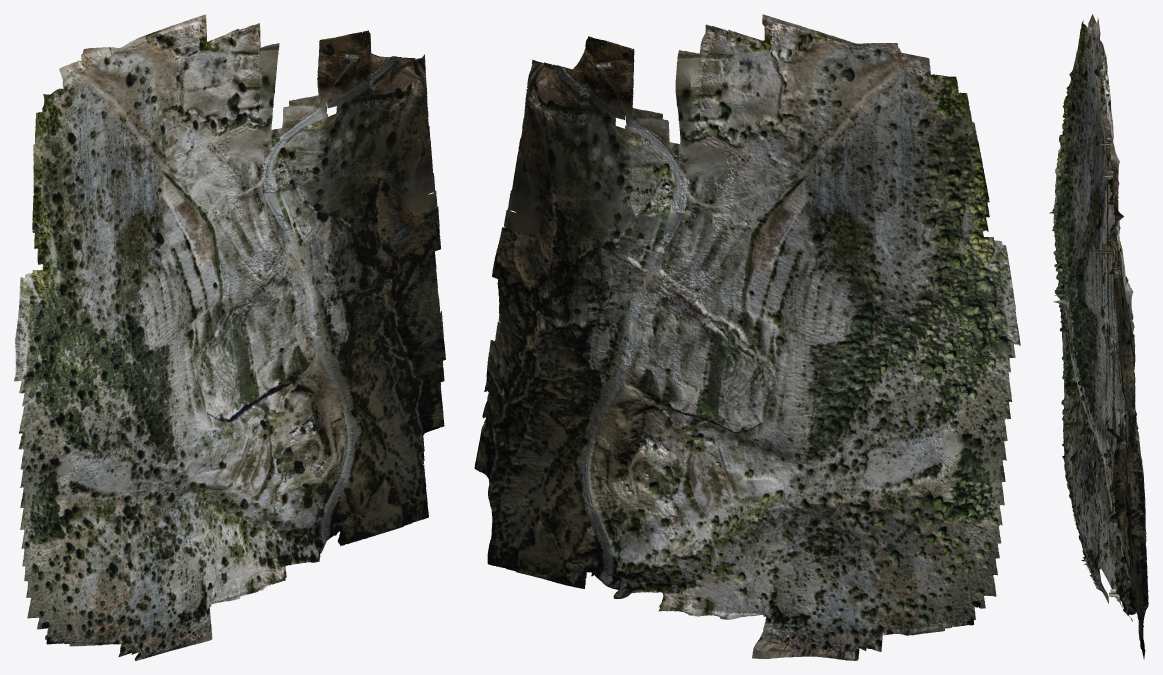
File: modelo-teposcolula-3d.centered.glb
3 renders of one model, left to right at view 1: azimuth 30°, elevation 25°; view 2: azimuth 150°, elevation 25°; view 3: azimuth 270°, elevation 25°, orthographic. The views are drawn at different scales.
Size of the model in its own units: 699 by 873 by 147.
1 material, 1 textured.
